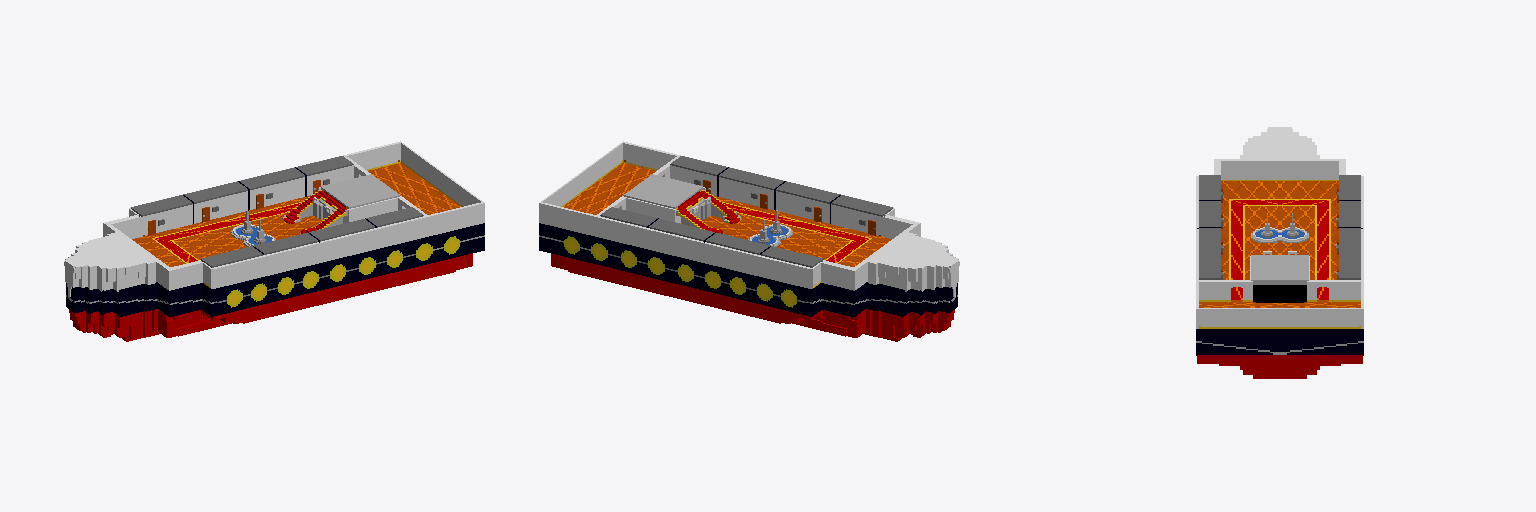
3 renders of one model, left to right at view 1: azimuth 30°, elevation 25°; view 2: azimuth 150°, elevation 25°; view 3: azimuth 270°, elevation 25°, orthographic.
Visible parts, largest first — view 1: object 1; view 2: object 1; view 3: object 1.
Part boxes in pixels (bbox=[...]): object 1: bbox=[64, 141, 484, 341]; object 1: bbox=[539, 141, 959, 341]; object 1: bbox=[1196, 127, 1363, 378].
Bounding box in the file's own units: 25.6 × 5.4 × 10.
1 materials, 1 textured.